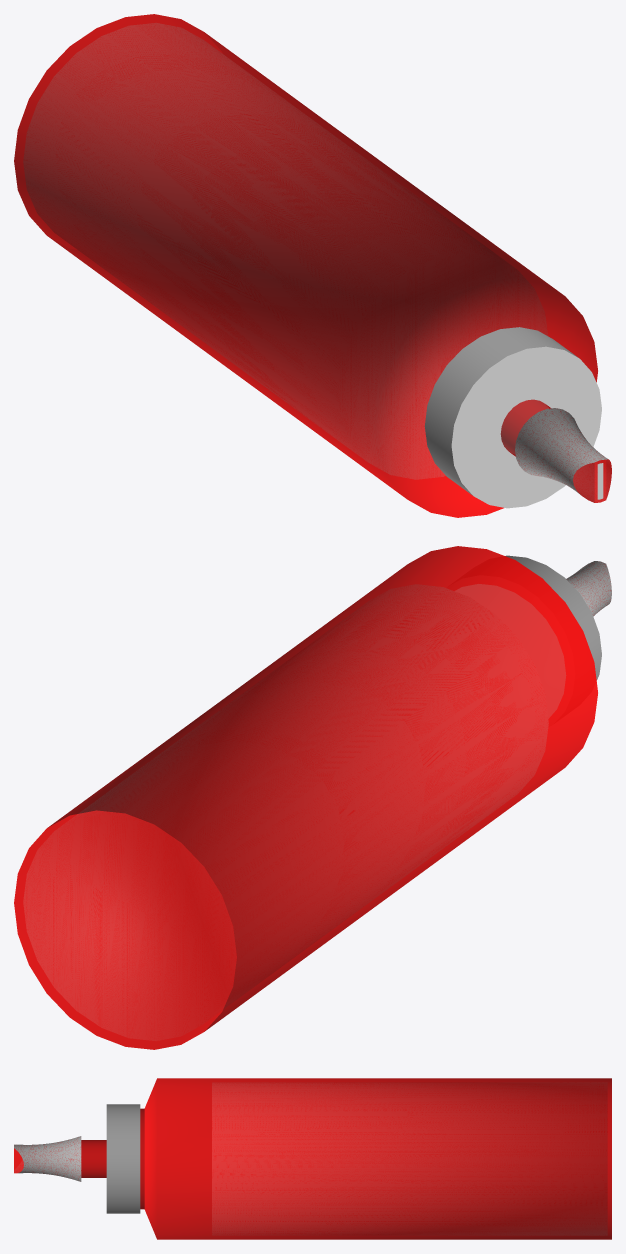
File: model_align.obj
3 views of the same model, one above another, from view 1: azimuth 30°, elevation 25°; view 2: azimuth 150°, elevation 25°; view 3: azimuth 270°, elevation 25° (orthographic). The views are drawn at different scales.
Parts seen in each view (by area): view 1: mesh2_mesh2-geometry, mesh1_mesh1-geometry, mesh5_mesh5-geometry, mesh8_mesh8-geometry; view 2: mesh2_mesh2-geometry, mesh1_mesh1-geometry, mesh5_mesh5-geometry, mesh8_mesh8-geometry; view 3: mesh2_mesh2-geometry, mesh1_mesh1-geometry, mesh5_mesh5-geometry, mesh8_mesh8-geometry.
Part boxes in pixels (x1,y1,x2,y2): mesh2_mesh2-geometry: [14, 14, 597, 517]; mesh1_mesh1-geometry: [23, 23, 547, 479]; mesh5_mesh5-geometry: [424, 327, 601, 508]; mesh8_mesh8-geometry: [500, 399, 611, 502]; mesh2_mesh2-geometry: [14, 546, 597, 1049]; mesh1_mesh1-geometry: [23, 584, 548, 1040]; mesh5_mesh5-geometry: [455, 555, 601, 717]; mesh8_mesh8-geometry: [566, 561, 611, 616]; mesh2_mesh2-geometry: [140, 1078, 611, 1239]; mesh1_mesh1-geometry: [212, 1082, 607, 1235]; mesh5_mesh5-geometry: [106, 1104, 140, 1213]; mesh8_mesh8-geometry: [14, 1136, 106, 1181].
Size of the model in its own units: 0.0661 by 0.0661 by 0.2439.
